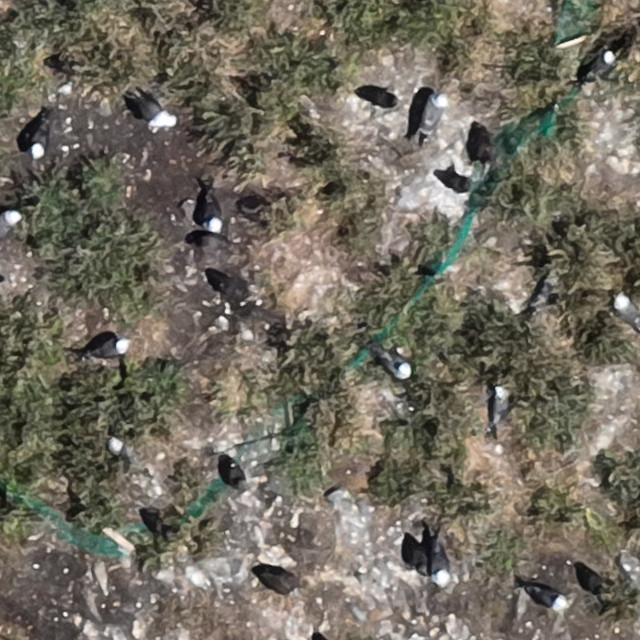umineko: (140, 98, 174, 130), (424, 94, 447, 132), (88, 338, 126, 358), (532, 586, 566, 608), (587, 50, 613, 78), (387, 352, 413, 380), (432, 546, 451, 584), (614, 296, 638, 324), (203, 199, 222, 233), (493, 388, 510, 424), (2, 211, 20, 241), (30, 126, 46, 157), (109, 437, 129, 457), (229, 463, 245, 487)
